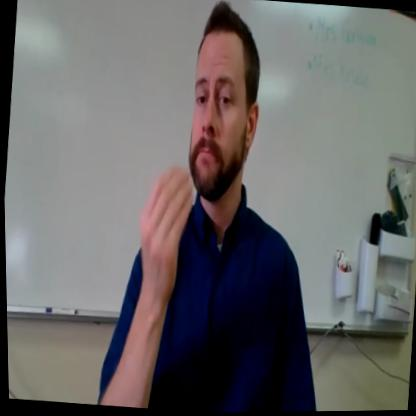Food: (125, 0, 320, 328)
